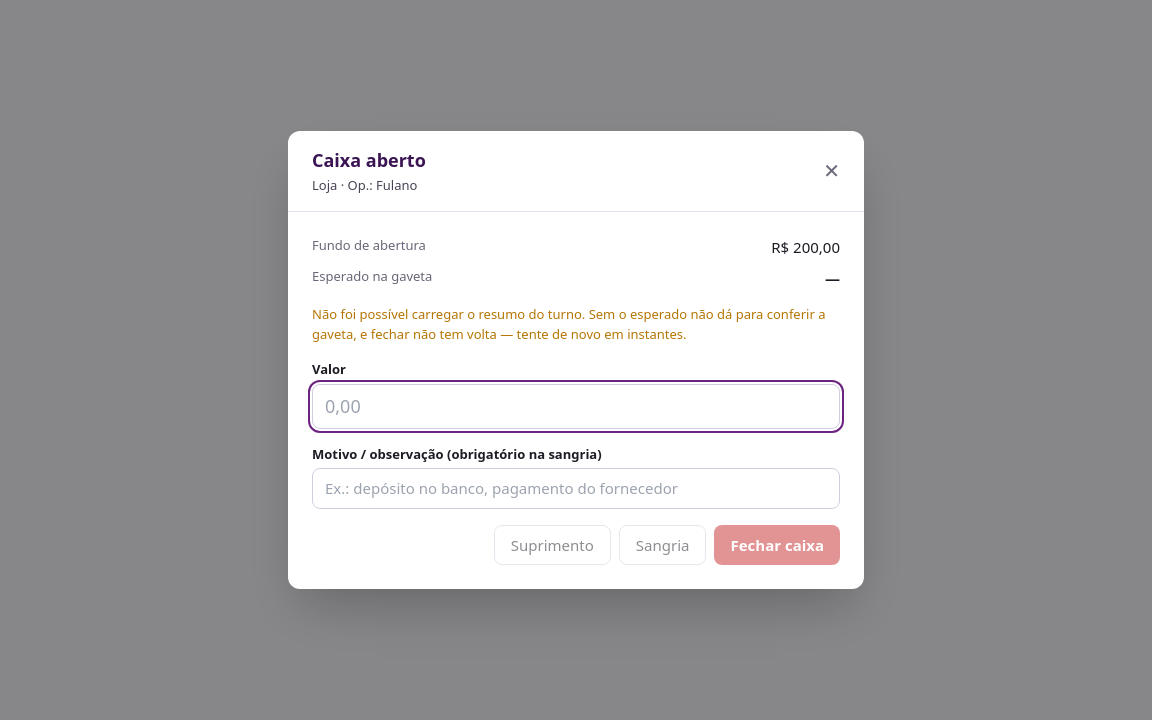
Test: H-caixa-seguranca-M01 — a ação no diálogo com a gaveta já fechada em outro lugar › SUPRIMENTO recusado com CORE_CASH_NOT_FOUND: a mesma saída, com a razão certa
The image size is (1152, 720).
Check: the text "—" is shown, box [825,268,840,288]
Type "50,00" into the field labelled "Valor" at (576, 406), box [312,384,840,429]
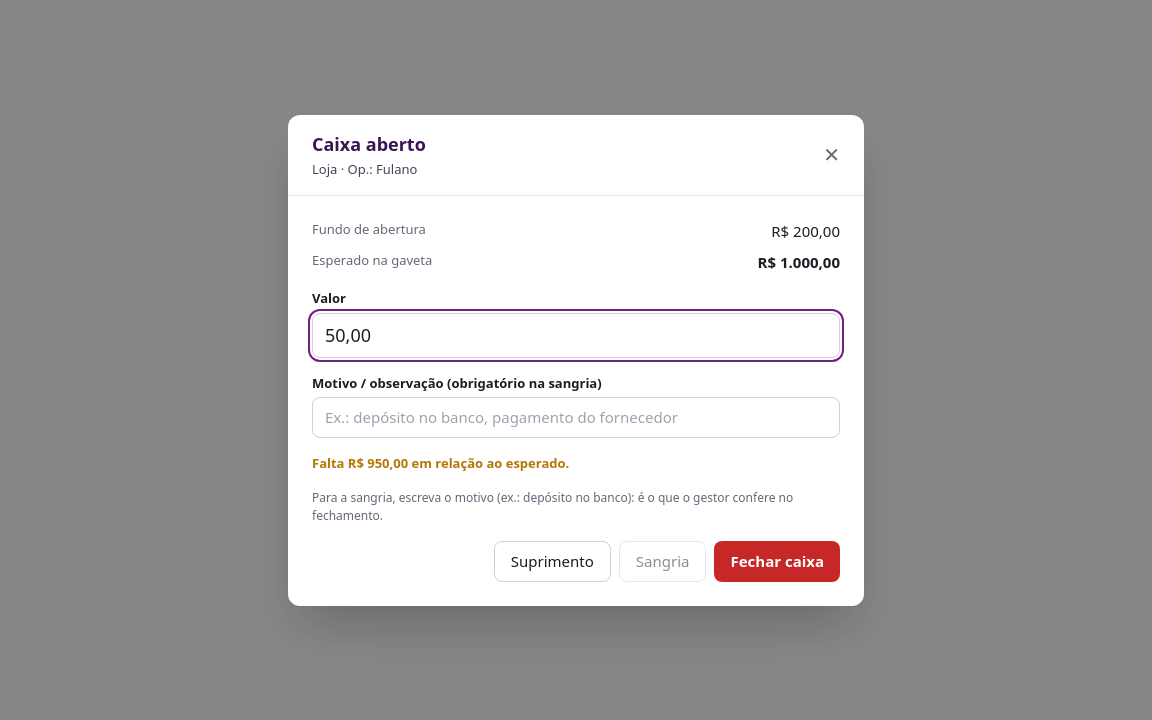
Click the button "Suprimento" at (552, 561), box [494,541,611,582]
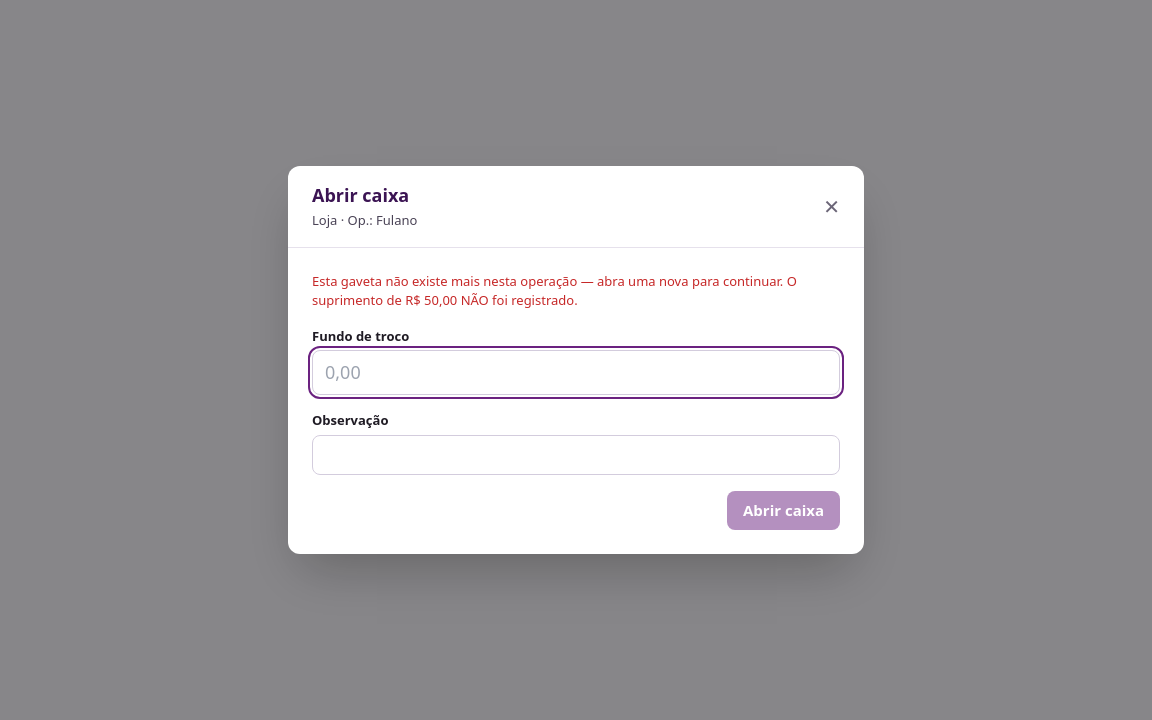
Check: the message is shown, box [312,272,840,311]
Check: the message shows "Esta gaveta não existe mais nesta operação", box [312,272,797,309]
Check: the heading "Abrir caixa" is shown, box [312,182,417,209]
